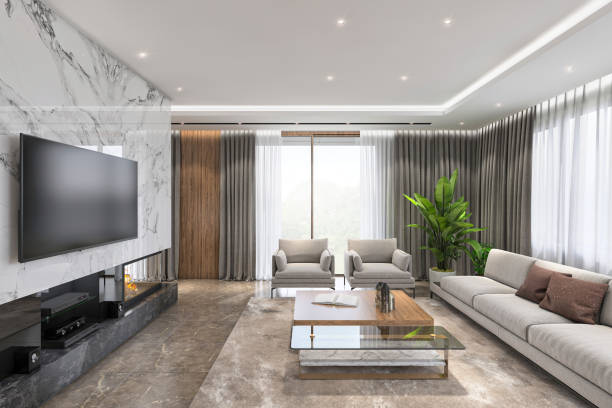TV: (16, 130, 140, 263)
chair: (342, 236, 417, 299), (269, 235, 337, 299)
large plant: (407, 174, 475, 280)
sofa: (427, 246, 612, 408)
table: (289, 323, 467, 386), (289, 286, 433, 327)
